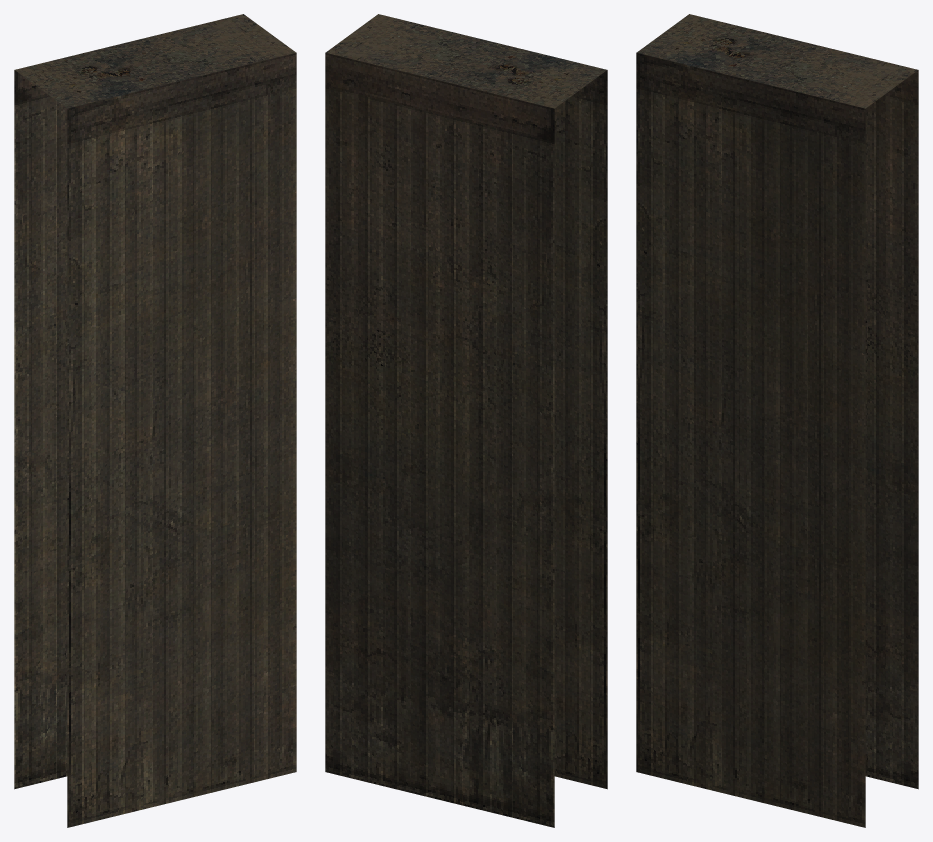
Rendered from wall_rx_1_1_4_width.glb.
The picture shows the model from 3 angles, left to right: view 1: azimuth 30°, elevation 25°; view 2: azimuth 150°, elevation 25°; view 3: azimuth 330°, elevation 25°; orthographic projection.
Parts seen in each view (by area): view 1: wall_rx_1_1/4_width; view 2: wall_rx_1_1/4_width; view 3: wall_rx_1_1/4_width.
Part boxes in pixels (box(x1,y1,x2,y2)): wall_rx_1_1/4_width: box(14, 14, 296, 827); wall_rx_1_1/4_width: box(325, 14, 607, 827); wall_rx_1_1/4_width: box(636, 14, 918, 827).
Size of the model in its own units: 1 by 3 by 0.4.
Materials: 2 (2 with a texture image).
